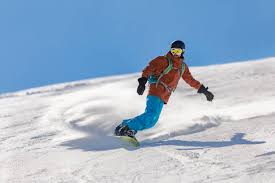snowboard: (116, 129, 142, 148)
